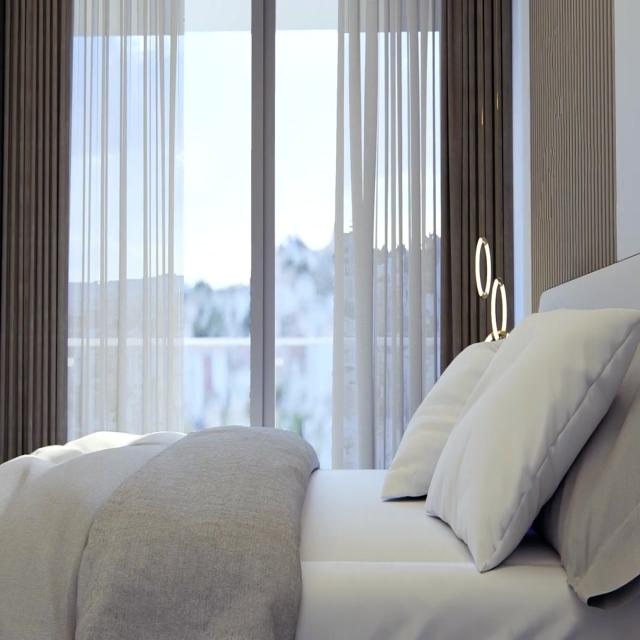obstacle: (1, 251, 639, 638)
